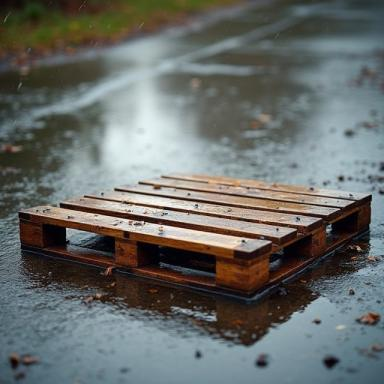pallet: (18, 172, 372, 299), (159, 245, 216, 274), (65, 228, 115, 253)
